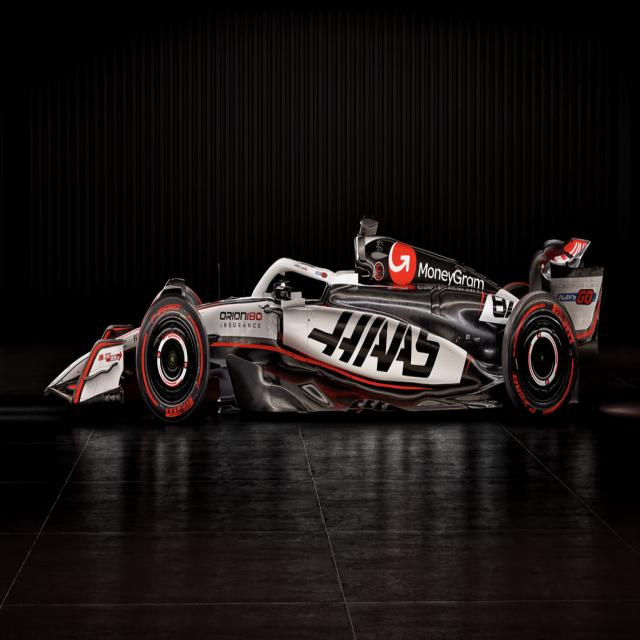Haas: (44, 213, 606, 427)
